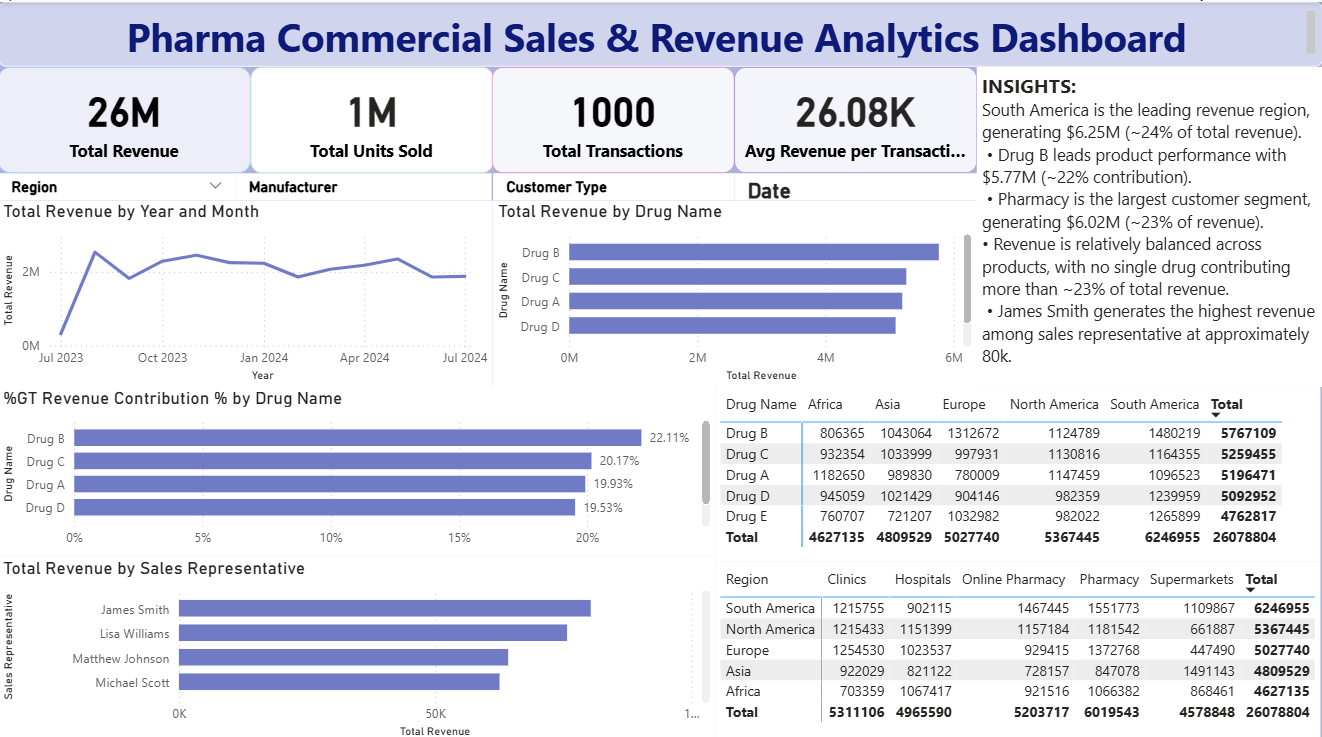

What the dashboard file says about the page in this screenshot:
{"tool":"powerbi","page":{"name":"commercial intelligence","canvas":[1280,720],"ordinal":0},"visuals":[{"type":"textbox","box":[0,0,1280,62.7],"z":0},{"type":"card","fields":{"Values":["Raw_Data.Total Revenue"]},"box":[0,62.7,243.7,102.5],"z":1000},{"type":"card","fields":{"Values":["Raw_Data.Total Units Sold"]},"box":[243.7,62.7,234,102.5],"z":2000},{"type":"card","fields":{"Values":["Raw_Data.Total Transactions"]},"box":[476.5,62.7,234,102.5],"z":3000},{"type":"card","fields":{"Values":["Raw_Data.Avg Revenue per Transaction"]},"box":[710.6,62.7,234,102.5],"z":4000},{"type":"clusteredBarChart","fields":{"Category":["Raw_Data.Drug Name"],"Y":["Raw_Data.Total Revenue"]},"box":[477.8,191.8,466.9,179.8],"z":5000},{"type":"slicer","fields":{"Values":["Raw_Data.Sale Date.Variation.Date Hierarchy.Year","Raw_Data.Sale Date.Variation.Date Hierarchy.Quarter","Raw_Data.Sale Date.Variation.Date Hierarchy.Month","Raw_Data.Sale Date.Variation.Date Hierarchy.Day"]},"box":[710.6,165.3,234,26.5],"z":6000},{"type":"slicer","fields":{"Values":["Raw_Data.Region"]},"box":[0,165.3,229.2,26.5],"z":7000},{"type":"slicer","fields":{"Values":["Raw_Data.Customer Type"]},"box":[477.8,165.3,232.8,26.5],"z":8000},{"type":"slicer","fields":{"Values":["Raw_Data.Manufacturer"]},"box":[229.2,165.3,247.3,26.5],"z":9000},{"type":"lineChart","fields":{"Y":["Raw_Data.Total Revenue"],"Category":["Raw_Data.Sale Date.Variation.Date Hierarchy.Year","Raw_Data.Sale Date.Variation.Date Hierarchy.Month"]},"box":[0,191.8,477.8,179.8],"z":10000},{"type":"pivotTable","fields":{"Rows":["Raw_Data.Region"],"Columns":["Raw_Data.Customer Type"],"Values":["Raw_Data.Total Revenue"]},"box":[692.5,540.5,585.1,176.1],"z":11000},{"type":"barChart","fields":{"Category":["Raw_Data.Drug Name"],"Y":["Raw_Data.Revenue Contribution %"]},"box":[0,371.6,692.5,164.1],"z":12000},{"type":"pivotTable","fields":{"Rows":["Raw_Data.Drug Name"],"Columns":["Raw_Data.Region"],"Values":["Raw_Data.Total Revenue"]},"box":[692.5,371.6,585.1,168.9],"z":13000},{"type":"barChart","fields":{"Category":["Raw_Data.Sales Representative"],"Y":["Raw_Data.Total Revenue"]},"box":[0,535.7,692.5,179.8],"z":14000},{"type":"textbox","box":[944.6,62.7,335.4,308.8],"z":15000}]}

Visuals, with their boxes in screenshot pixels (x1, y1, x2, y2), scaled from the page's 1280x720 canvas onto the 1322x737 screenshot:
textbox: [x1=0, y1=0, x2=1321, y2=64]
card - Raw_Data.Total Revenue: [x1=0, y1=64, x2=252, y2=169]
card - Raw_Data.Total Units Sold: [x1=252, y1=64, x2=493, y2=169]
card - Raw_Data.Total Transactions: [x1=492, y1=64, x2=734, y2=169]
card - Raw_Data.Avg Revenue per Transaction: [x1=734, y1=64, x2=976, y2=169]
clusteredBarChart - Raw_Data.Drug Name x Raw_Data.Total Revenue: [x1=493, y1=196, x2=976, y2=380]
slicer - Raw_Data.Sale Date.Variation.Date Hierarchy.Year x Raw_Data.Sale Date.Variation.Date Hierarchy.Quarter: [x1=734, y1=169, x2=976, y2=196]
slicer - Raw_Data.Region: [x1=0, y1=169, x2=237, y2=196]
slicer - Raw_Data.Customer Type: [x1=493, y1=169, x2=734, y2=196]
slicer - Raw_Data.Manufacturer: [x1=237, y1=169, x2=492, y2=196]
lineChart - Raw_Data.Total Revenue x Raw_Data.Sale Date.Variation.Date Hierarchy.Year: [x1=0, y1=196, x2=493, y2=380]
pivotTable - Raw_Data.Region x Raw_Data.Customer Type: [x1=715, y1=553, x2=1320, y2=734]
barChart - Raw_Data.Drug Name x Raw_Data.Revenue Contribution %: [x1=0, y1=380, x2=715, y2=548]
pivotTable - Raw_Data.Drug Name x Raw_Data.Region: [x1=715, y1=380, x2=1320, y2=553]
barChart - Raw_Data.Sales Representative x Raw_Data.Total Revenue: [x1=0, y1=548, x2=715, y2=732]
textbox: [x1=976, y1=64, x2=1321, y2=380]
